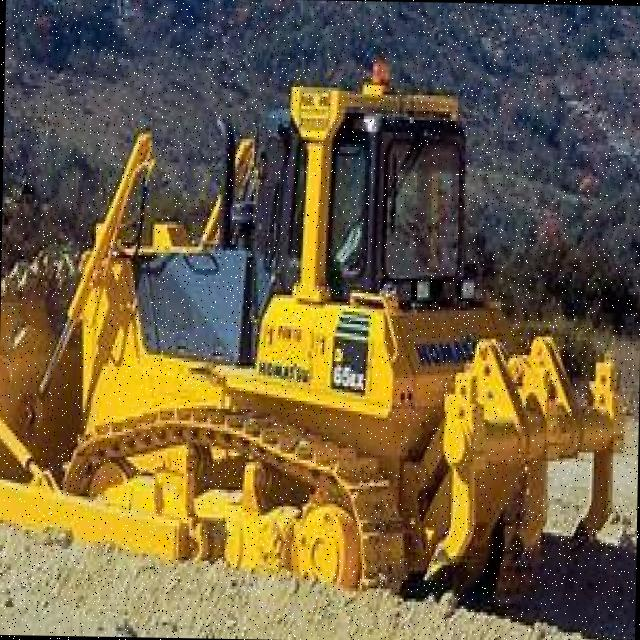Bulldozer: (0, 50, 636, 639)
